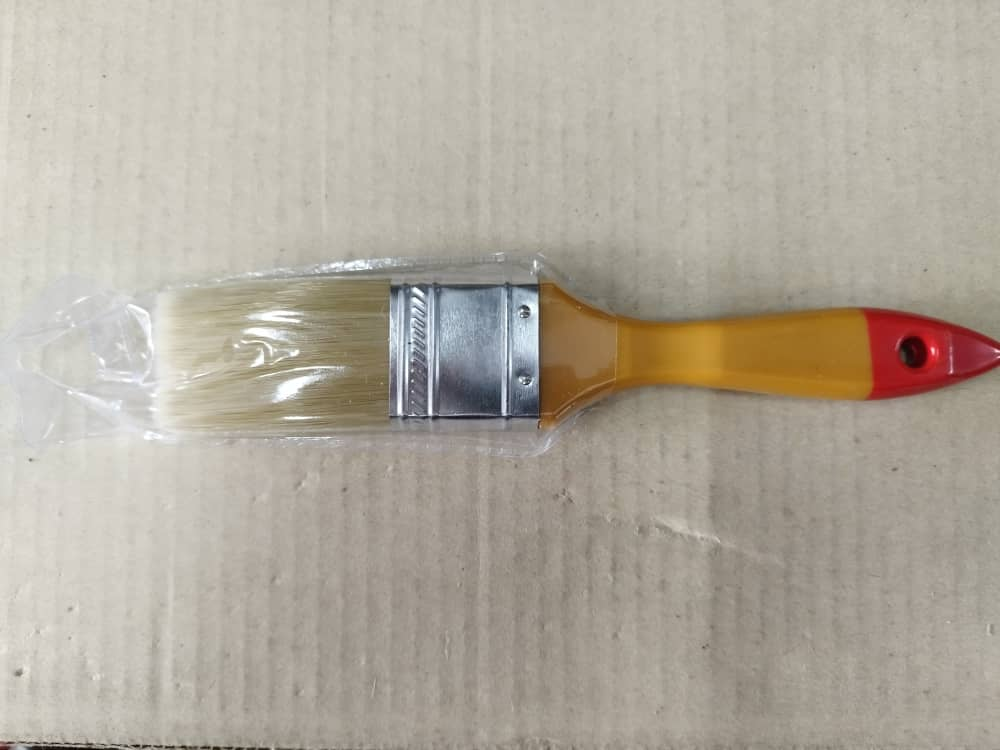sku_small_brush: (130, 259, 995, 434)
